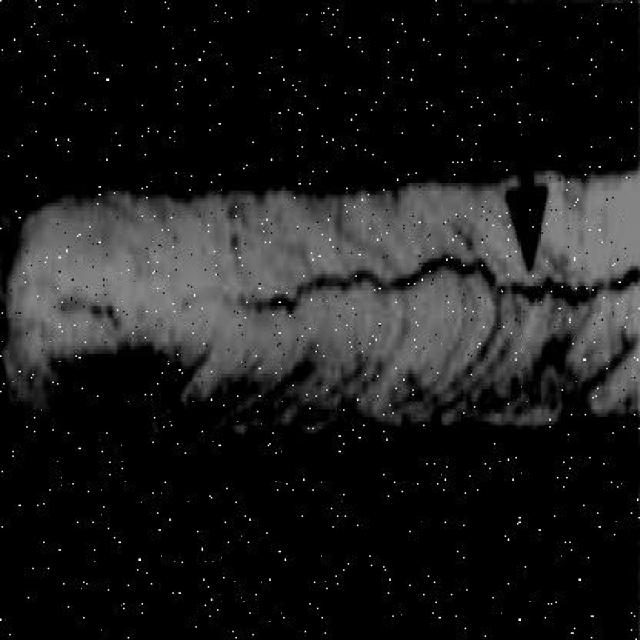Defect: (240, 241, 640, 317)
